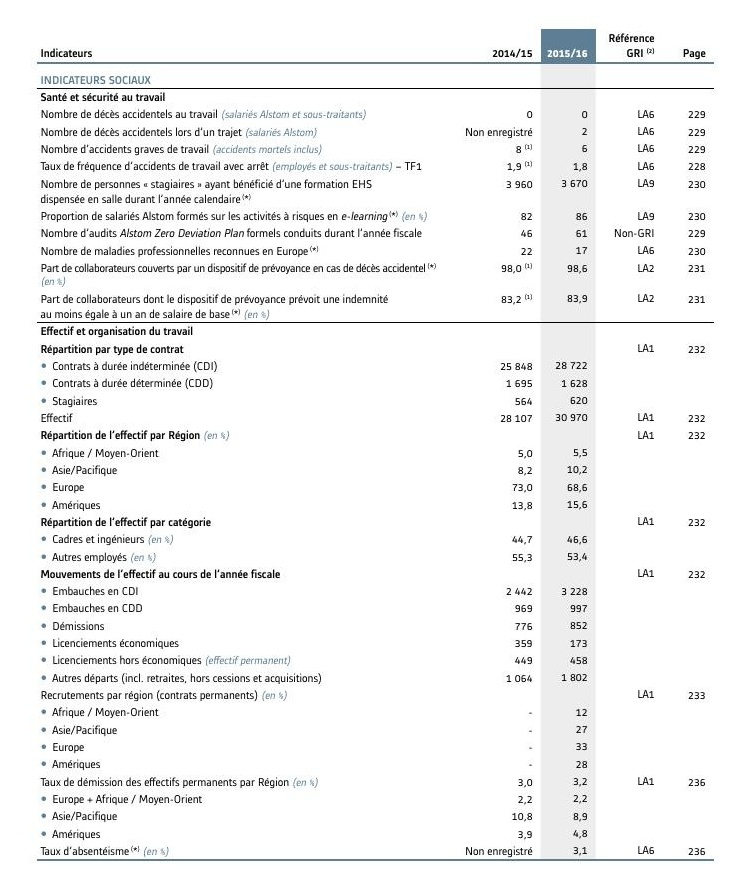table: (0, 0, 743, 886)
